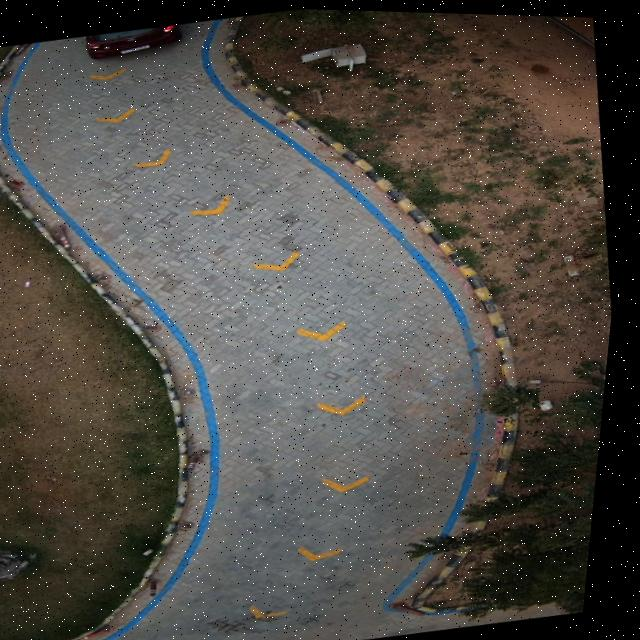car: (88, 23, 181, 58)
